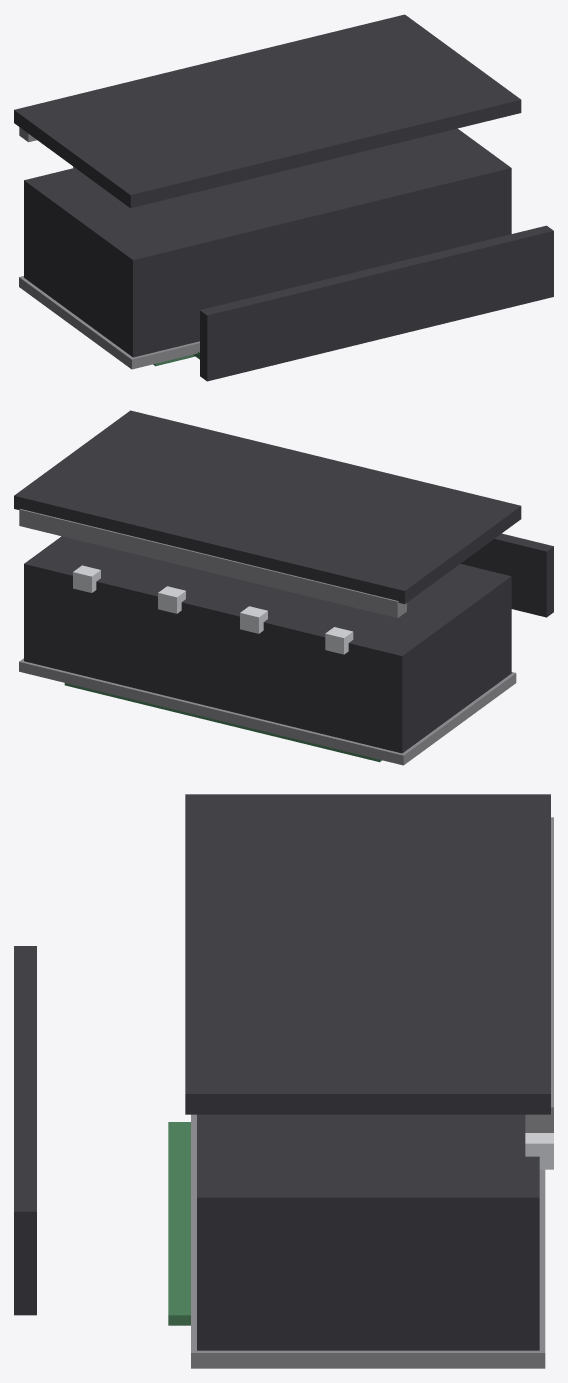
The model's file is cartridge_slot.gltf.
The picture shows the model from 3 angles, top to bottom: view 1: azimuth 30°, elevation 25°; view 2: azimuth 150°, elevation 25°; view 3: azimuth 270°, elevation 25°; orthographic projection. The views are drawn at different scales.
Visible parts, largest first — view 1: cartridge_slot; view 2: cartridge_slot; view 3: cartridge_slot.
Boxes of the visible parts, x1,y1,x2,y2 form: cartridge_slot: (14, 14, 553, 381); cartridge_slot: (14, 410, 553, 765); cartridge_slot: (14, 794, 553, 1368).
Size of the model in its own units: 0.124 by 0.0575 by 0.0945.
